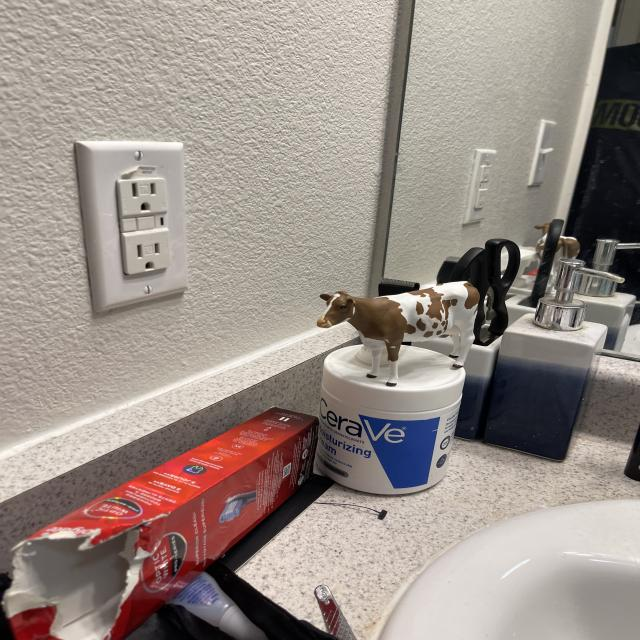cow: (314, 277, 488, 392)
